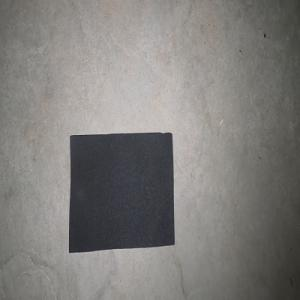PaintChip: (68, 132, 174, 253)
